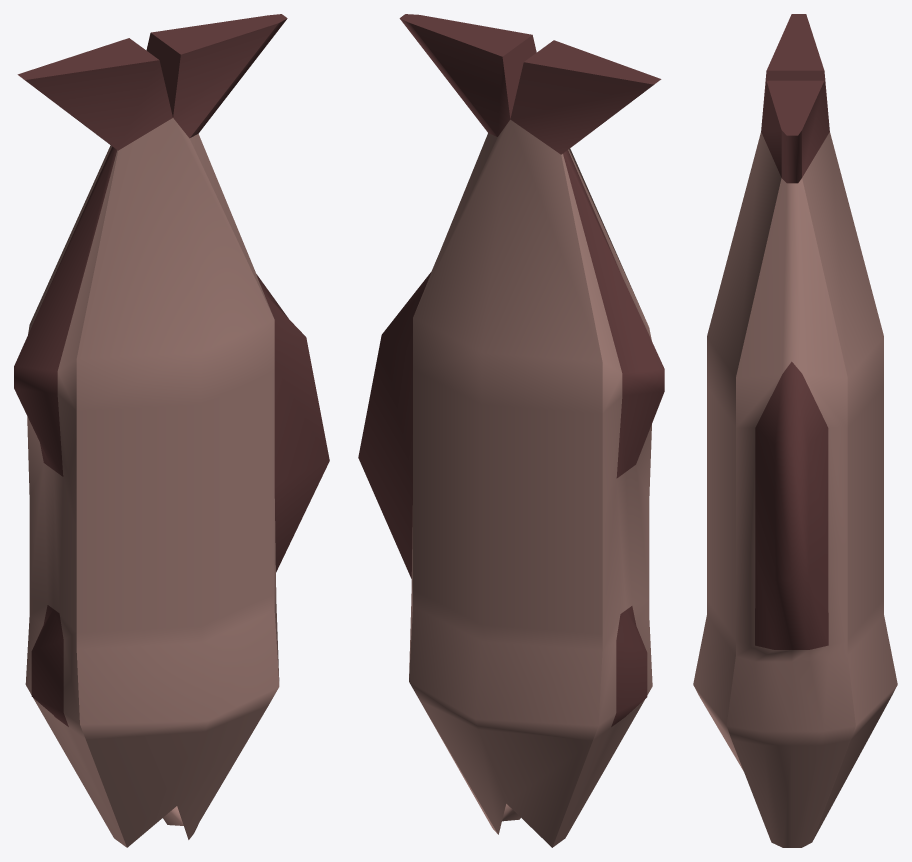
Rendered from fish_big.fbx.
3 views of the same model, side by side, from view 1: azimuth 30°, elevation 25°; view 2: azimuth 150°, elevation 25°; view 3: azimuth 270°, elevation 25° (orthographic). The views are drawn at different scales.
Parts seen in each view (by area): view 1: fish_big; view 2: fish_big; view 3: fish_big.
Part boxes in pixels (x1=…): fish_big: x1=14, y1=14, x2=329, y2=847; fish_big: x1=358, y1=14, x2=664, y2=847; fish_big: x1=693, y1=14, x2=897, y2=847.
Bounding box in the file's own units: 0.9966 × 2.48 × 0.6082.
